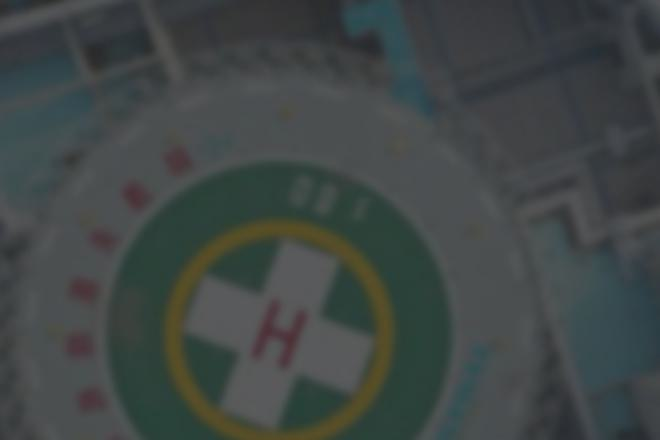Apron: (161, 206, 388, 418)
